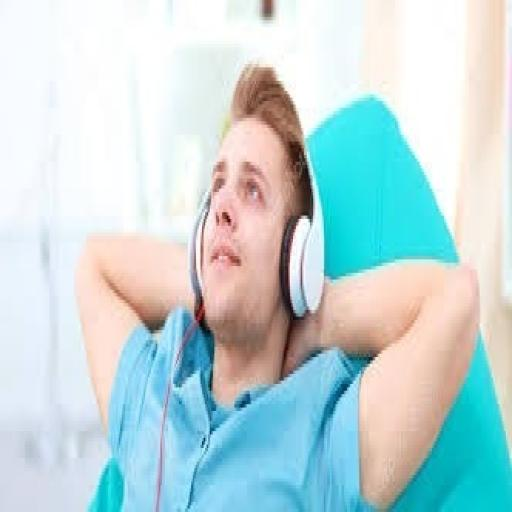listening_to_music: (72, 60, 510, 508)
